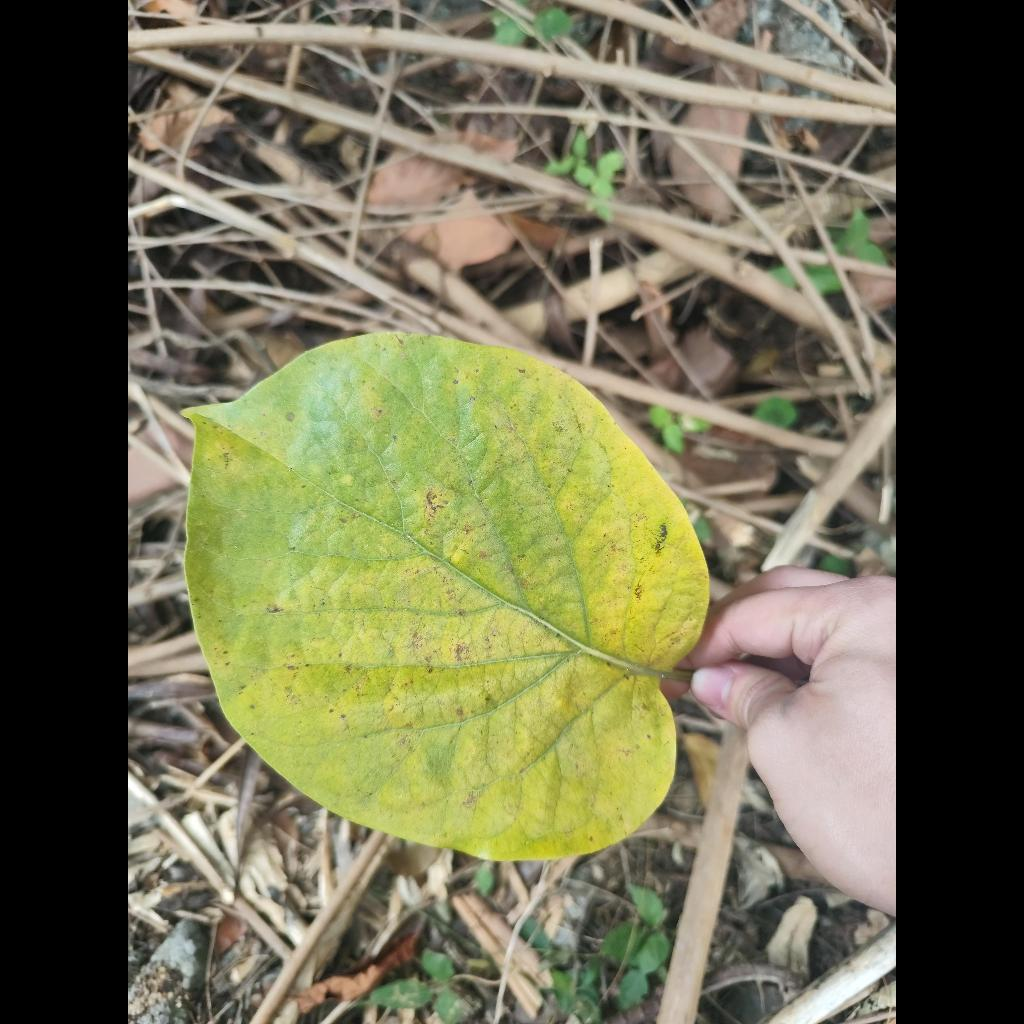deficiencia_nutricional: (187, 333, 708, 859)
